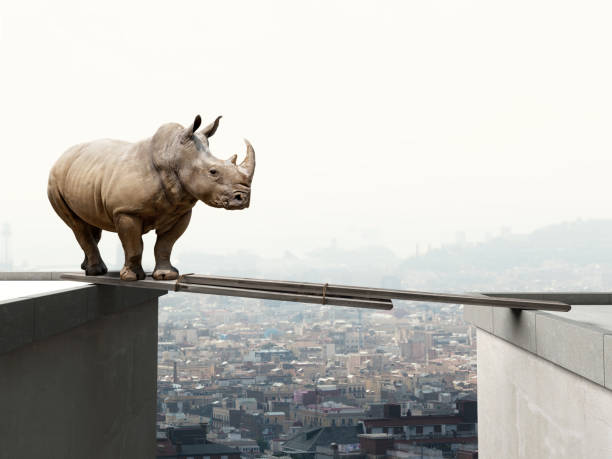rhino: (144, 107, 269, 223)
